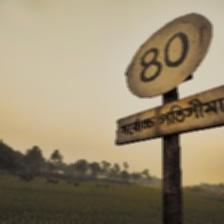Speed-limit: (117, 14, 224, 136)
